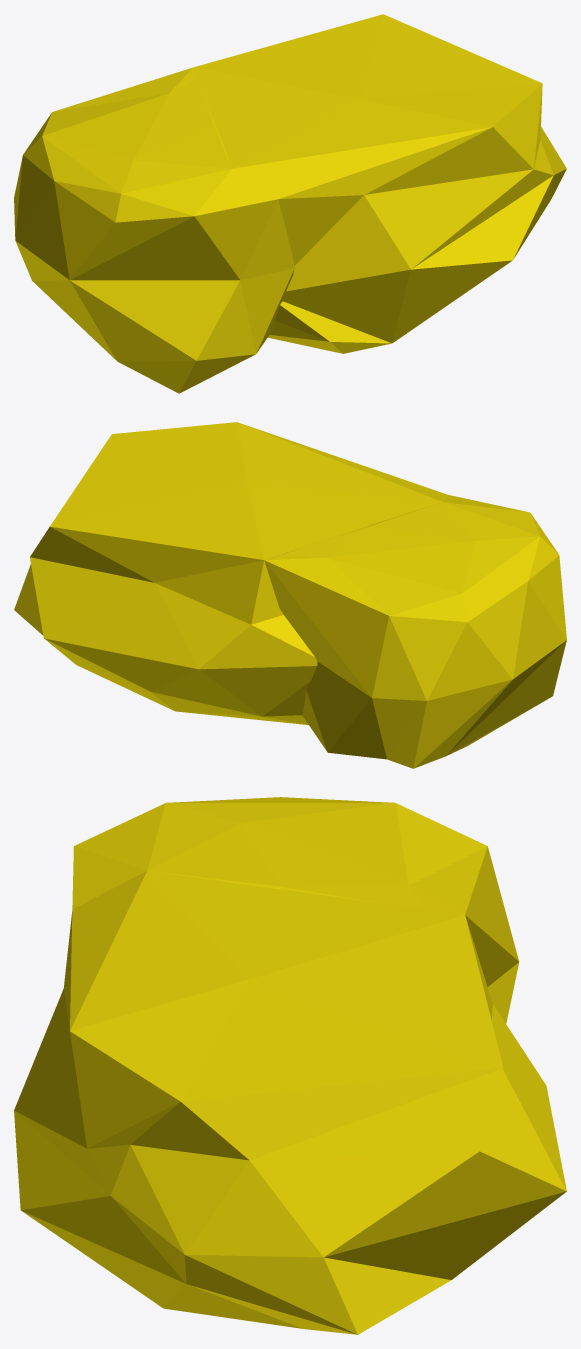
The model's file is lvl1rock1.fbx.
3 views of the same model, one above another, from view 1: azimuth 30°, elevation 25°; view 2: azimuth 150°, elevation 25°; view 3: azimuth 270°, elevation 25° (orthographic). The views are drawn at different scales.
Visible parts, largest first — view 1: Icosphere; view 2: Icosphere; view 3: Icosphere.
Part boxes in pixels (x1,y1,x2,y2): Icosphere: [14, 14, 566, 393]; Icosphere: [14, 422, 566, 768]; Icosphere: [14, 797, 566, 1334].
Bounding box in the file's own units: 1567 × 649 × 1025.
